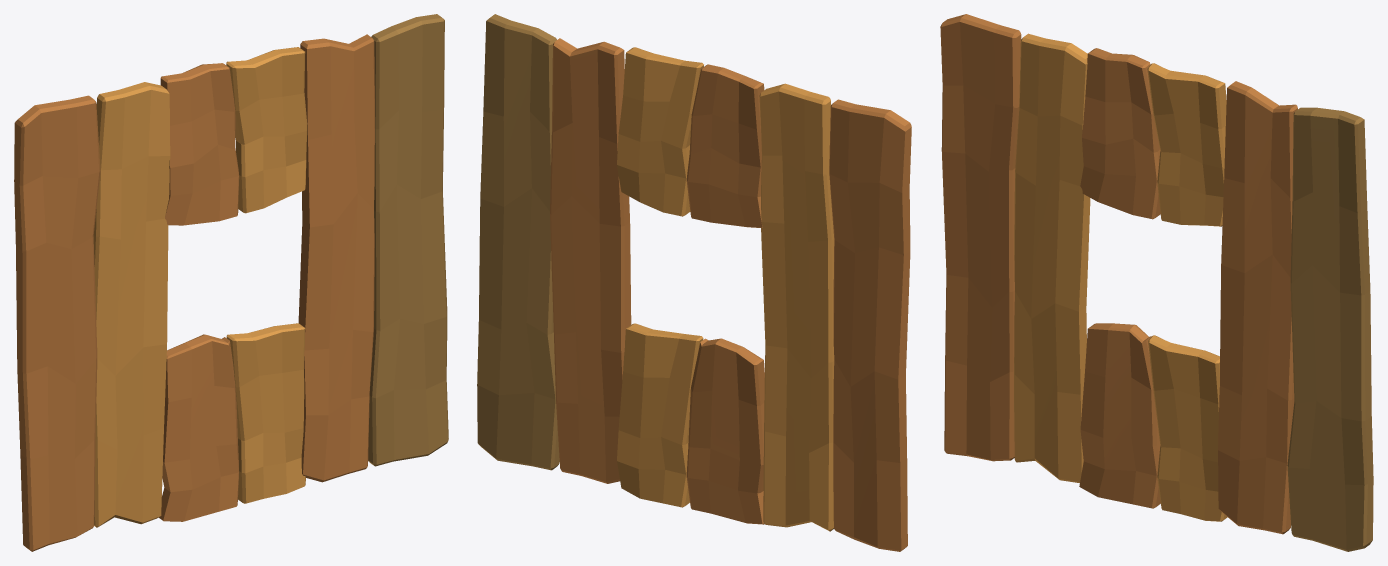
Rendered from Beach_House_Backside_01.fbx.
3 renders of one model, left to right at view 1: azimuth 30°, elevation 25°; view 2: azimuth 150°, elevation 25°; view 3: azimuth 330°, elevation 25°, orthographic.
Parts seen in each view (by area): view 1: Beach_House_Backside_01; view 2: Beach_House_Backside_01; view 3: Beach_House_Backside_01.
Part boxes in pixels (x1=…): Beach_House_Backside_01: x1=14, y1=14, x2=448, y2=551; Beach_House_Backside_01: x1=477, y1=14, x2=911, y2=551; Beach_House_Backside_01: x1=940, y1=14, x2=1373, y2=551.
Bounding box in the file's own units: 5.12 × 5.11 × 0.271.
